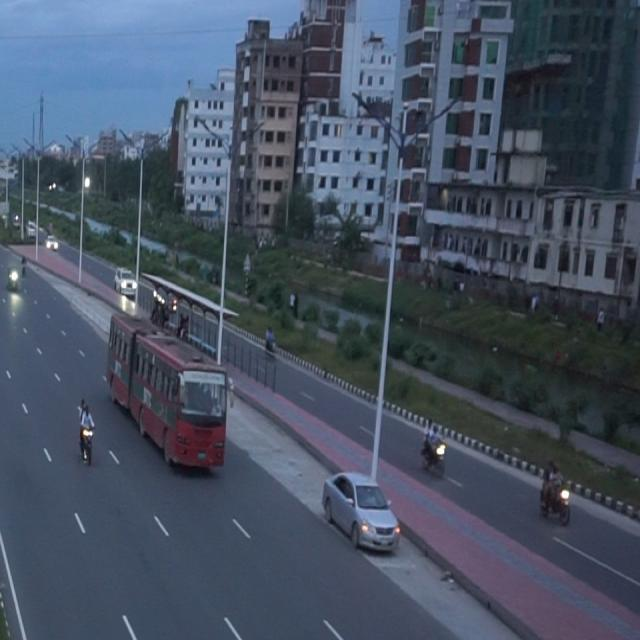bus: (97, 285, 243, 491)
